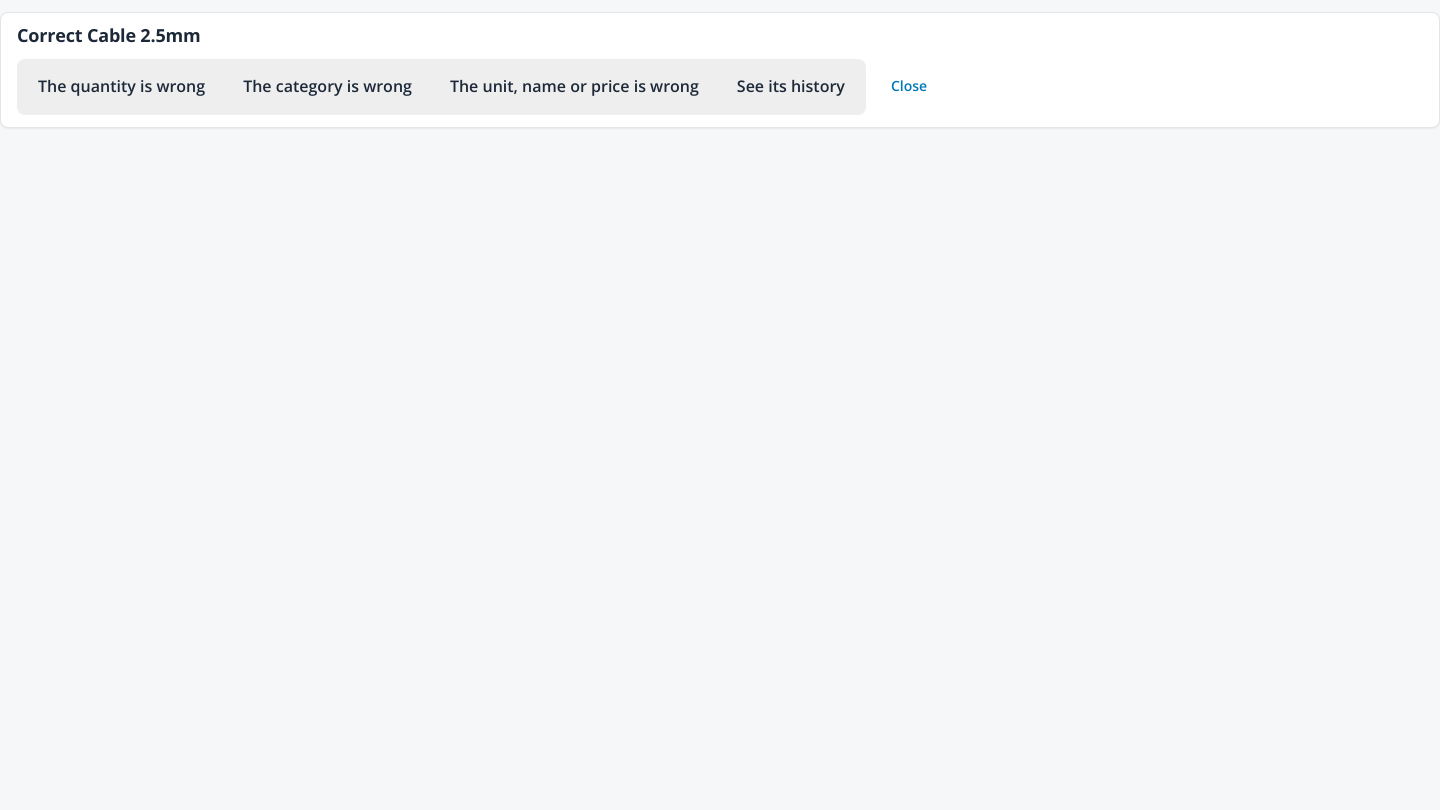
Test case: a quantity that moved meanwhile › starts again from the list when a draft kept from an earlier opening was typed against another quantity
What coordinates should you click on to do the following:
click the radio button labelled "The quantity is wrong"
I would click on:
 (122, 87)
Its box is [21,63,222,111].
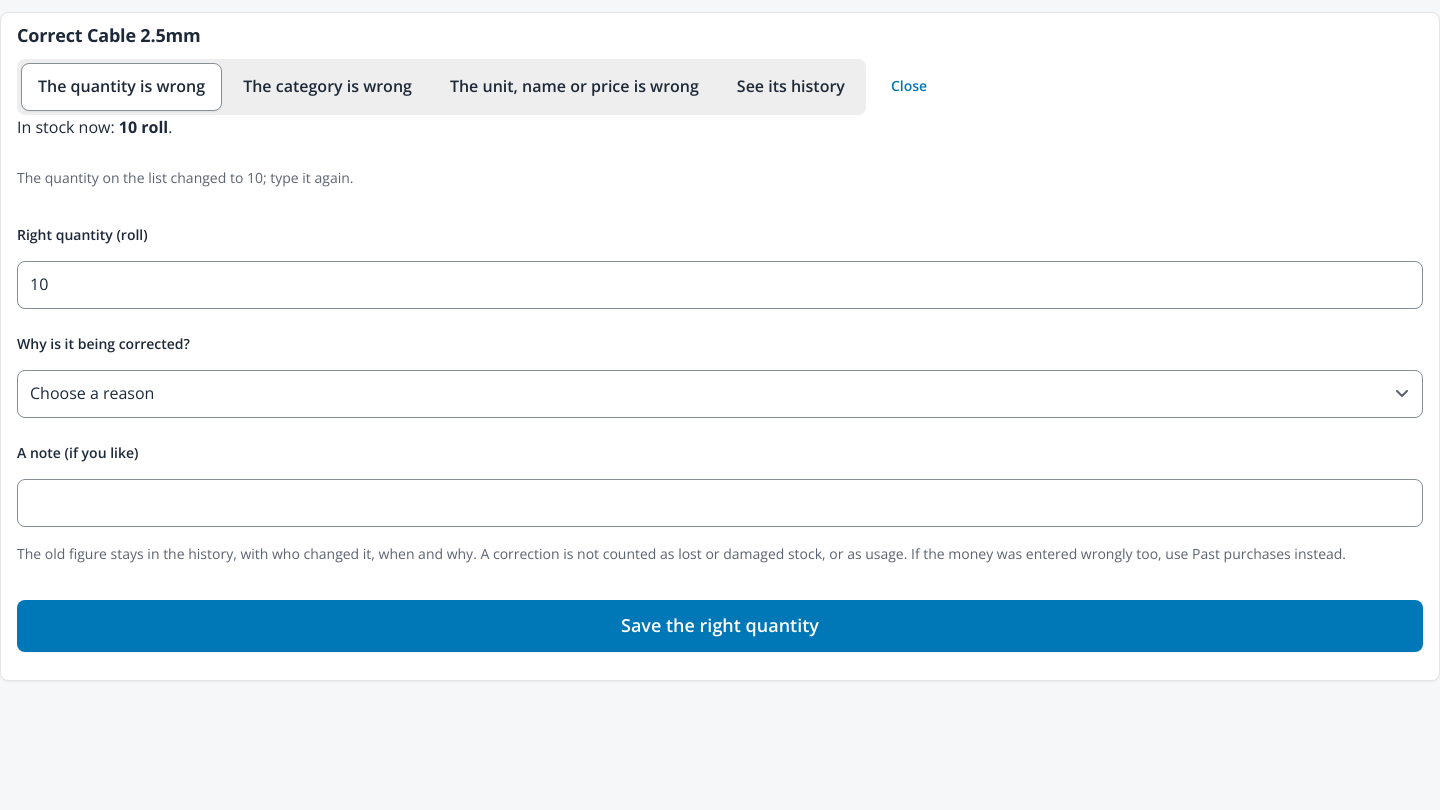
Expected: the field labelled "Right quantity (roll)" holds "10", [17,261,1423,309]
Expected: the dropdown labelled "Why is it being corrected?" shows "Choose a reason", [17,370,1423,418]
